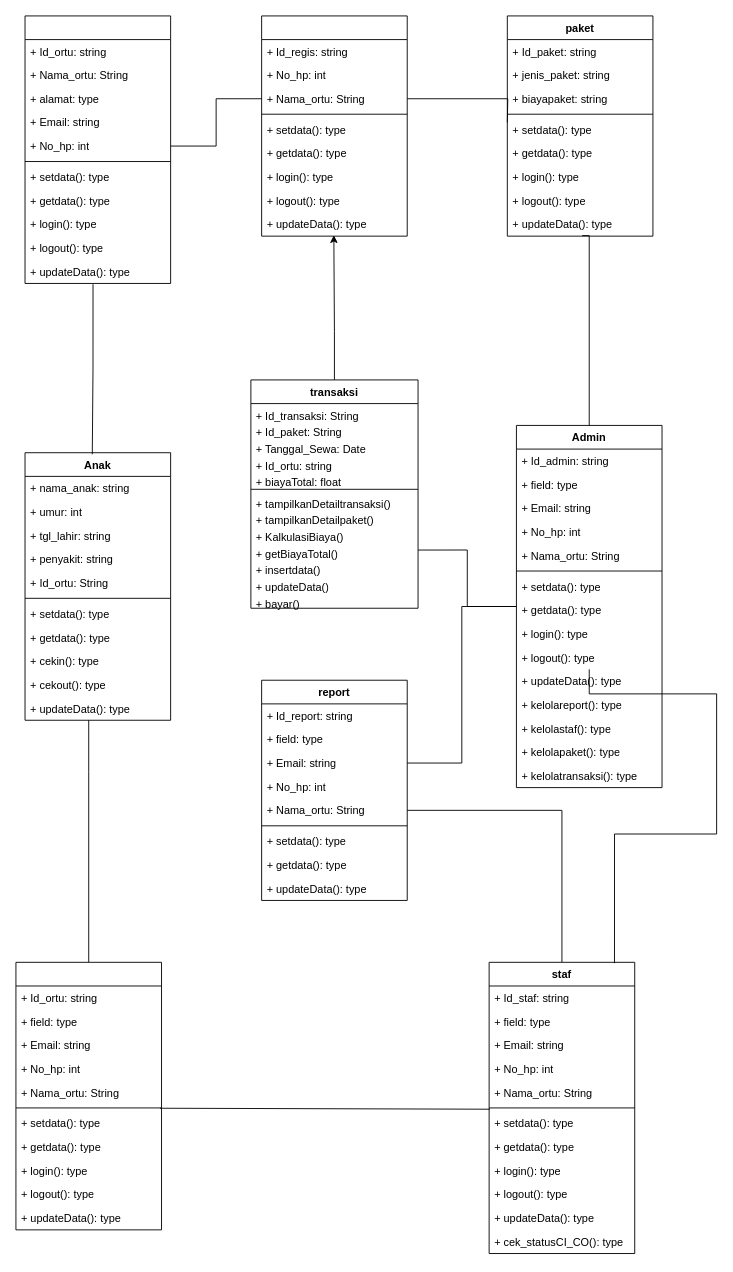
This 733x1272 diagram has some shape labels left out. The box of each missing label's shape, as (x1, y1, x2, y2) in pixels:
CI_CO_status: (15, 961, 162, 1230)
orangTua: (24, 15, 171, 283)
registrasi: (261, 15, 407, 236)
